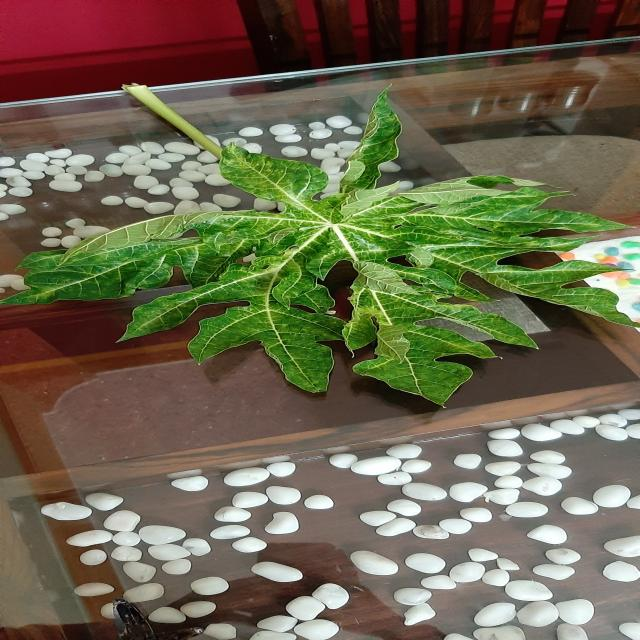leaf spot: (3, 90, 637, 404)
